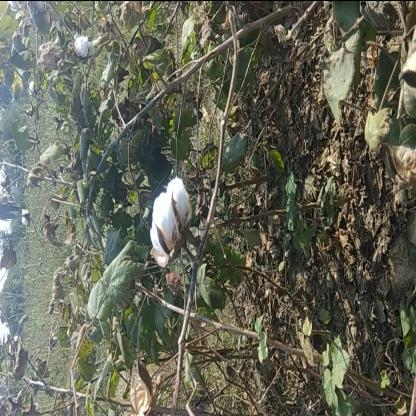cotton_ready: (142, 158, 214, 278)
